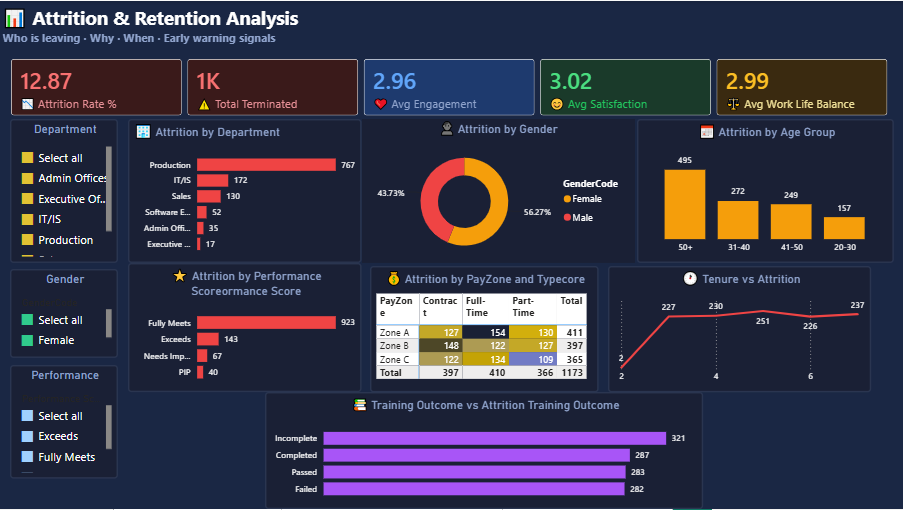

The page's visual inventory and layout, read from the dashboard file:
{"tool":"powerbi","page":{"name":"📊 Attrition & Retention Analysis","canvas":[1280,720],"ordinal":1},"visuals":[{"type":"textbox","box":[0,0,1279.8,75.1],"z":0},{"type":"cardVisual","fields":{"Data":["hr_data.Attrition Rate","hr_data.Attrition Count","hr_data.Avg Engagement","hr_data.Avg Satisfaction","hr_data.Avg WLB"]},"box":[0,65.7,1280,114.3],"z":1000},{"type":"clusteredBarChart","title":"🏢 Attrition by Department","fields":{"Category":["hr_data.DepartmentType"],"Y":["Sum(hr_data.Attrition_Flag)"]},"box":[182.9,167.1,331.4,204.3],"z":2000},{"type":"donutChart","title":"👤 Attrition by Gender","fields":{"Category":["hr_data.GenderCode"],"Y":["Sum(hr_data.Attrition_Flag)"]},"box":[514.3,167.1,387.1,204.3],"z":3000},{"type":"clusteredColumnChart","title":"📅 Attrition by Age Group","fields":{"Category":["hr_data.Age_Group"],"Y":["Sum(hr_data.Attrition_Flag)"]},"box":[904.3,167.1,364.3,204.3],"z":4000},{"type":"clusteredBarChart","title":"⭐ Attrition by Performance Scoreormance Score","fields":{"Category":["hr_data.Performance Score"],"Y":["Sum(hr_data.Attrition_Flag)"]},"box":[182.9,371.4,331.4,182.9],"z":5000},{"type":"pivotTable","title":"💰 Attrition by PayZone and Typecore","fields":{"Rows":["hr_data.PayZone"],"Columns":["hr_data.EmployeeType"],"Values":["Sum(hr_data.Attrition_Flag)"]},"box":[525.7,375.7,324.3,178.6],"z":6000},{"type":"lineChart","title":"🕐 Tenure vs Attrition","fields":{"Category":["hr_data.Tenure_Years"],"Y":["Sum(hr_data.Attrition_Flag)"]},"box":[862.9,375.7,372.9,178.6],"z":7000},{"type":"clusteredBarChart","title":"📚 Training Outcome vs Attrition Training Outcome","fields":{"Category":["hr_data.Training Outcome"],"Y":["Sum(hr_data.Attrition_Flag)"]},"box":[377.1,554.3,621.4,165.7],"z":8000},{"type":"slicer","title":"Department","fields":{"Values":["hr_data.DepartmentType"]},"box":[15.7,167.1,152.9,204.3],"z":9000},{"type":"slicer","title":"Gender","fields":{"Values":["hr_data.GenderCode"]},"box":[15.7,380,152.9,125.7],"z":10000},{"type":"slicer","title":"Performance","fields":{"Values":["hr_data.Performance Score"]},"box":[15.7,515.7,152.9,161.4],"z":11000}]}

Visuals, with their boxes in screenshot pixels (x1, y1, x2, y2), scaled from the page's 1280x720 canvas onto the 903x510 screenshot:
textbox: <bbox>0, 0, 902, 53</bbox>
cardVisual - hr_data.Attrition Rate x hr_data.Attrition Count: <bbox>0, 47, 902, 128</bbox>
"🏢 Attrition by Department" clusteredBarChart: <bbox>129, 118, 363, 263</bbox>
"👤 Attrition by Gender" donutChart: <bbox>363, 118, 636, 263</bbox>
"📅 Attrition by Age Group" clusteredColumnChart: <bbox>638, 118, 895, 263</bbox>
"⭐ Attrition by Performance Scoreormance Score" clusteredBarChart: <bbox>129, 263, 363, 393</bbox>
"💰 Attrition by PayZone and Typecore" pivotTable: <bbox>371, 266, 600, 393</bbox>
"🕐 Tenure vs Attrition" lineChart: <bbox>609, 266, 872, 393</bbox>
"📚 Training Outcome vs Attrition Training Outcome" clusteredBarChart: <bbox>266, 393, 704, 509</bbox>
"Department" slicer: <bbox>11, 118, 119, 263</bbox>
"Gender" slicer: <bbox>11, 269, 119, 358</bbox>
"Performance" slicer: <bbox>11, 365, 119, 480</bbox>
